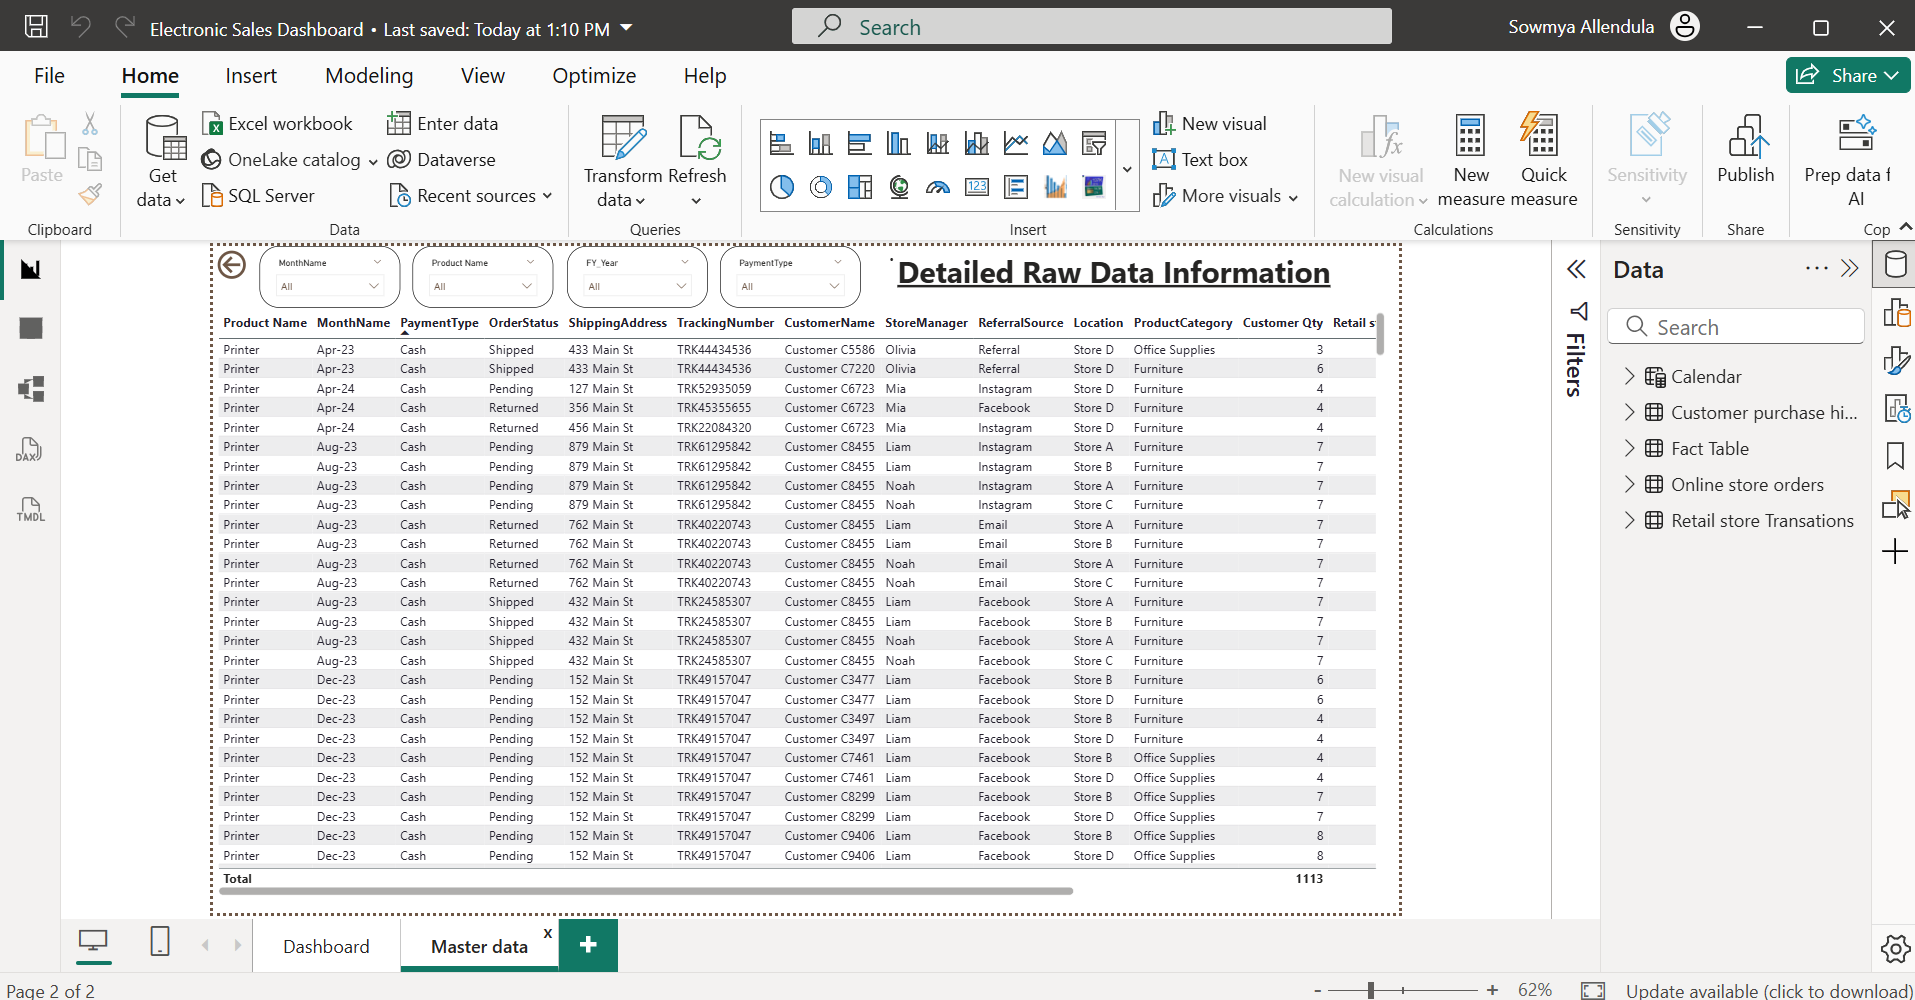

The page's visual inventory and layout, read from the dashboard file:
{"tool":"powerbi","page":{"name":"Master data","canvas":[1280,720],"ordinal":1},"visuals":[{"type":"tableEx","fields":{"Values":["Fact Table.Product Name","Calendar.MonthName","Online store orders.PaymentType","Retail store Transations.OrderStatus","Retail store Transations.ShippingAddress","Retail store Transations.TrackingNumber","Customer purchase history.CustomerName","Online store orders.StoreManager","Retail store Transations.ReferralSource","Online store orders.Location","Customer purchase history.ProductCategory","Fact Table.Customer Qty"]},"box":[0,66.4,1269.5,639.6],"z":0},{"type":"actionButton","box":[0,0,100.4,40.5],"z":1000},{"type":"slicer","fields":{"Values":["Calendar.MonthName"]},"box":[50.2,0,152.2,66.4],"z":2000},{"type":"slicer","fields":{"Values":["Fact Table.Product Name"]},"box":[215.4,0,152.2,66.4],"z":3000},{"type":"slicer","fields":{"Values":["Calendar.FY_Year"]},"box":[382.1,0,152.2,66.4],"z":4000},{"type":"slicer","fields":{"Values":["Online store orders.PaymentType"]},"box":[547.3,0,152.2,66.4],"z":5000},{"type":"textbox","box":[715.7,0,553.8,66.4],"z":6000}]}

Visuals, with their boxes on the page's 1280x720 design canvas (x1, y1, x2, y2). These are canvas units, not pixel positions in the 1915x1000 screenshot, which may show the page scaled, cropped or inside an application window:
tableEx - Fact Table.Product Name x Calendar.MonthName: 0:66:1270:706
actionButton: 0:0:100:40
slicer - Calendar.MonthName: 50:0:202:66
slicer - Fact Table.Product Name: 215:0:368:66
slicer - Calendar.FY_Year: 382:0:534:66
slicer - Online store orders.PaymentType: 547:0:700:66
textbox: 716:0:1270:66
